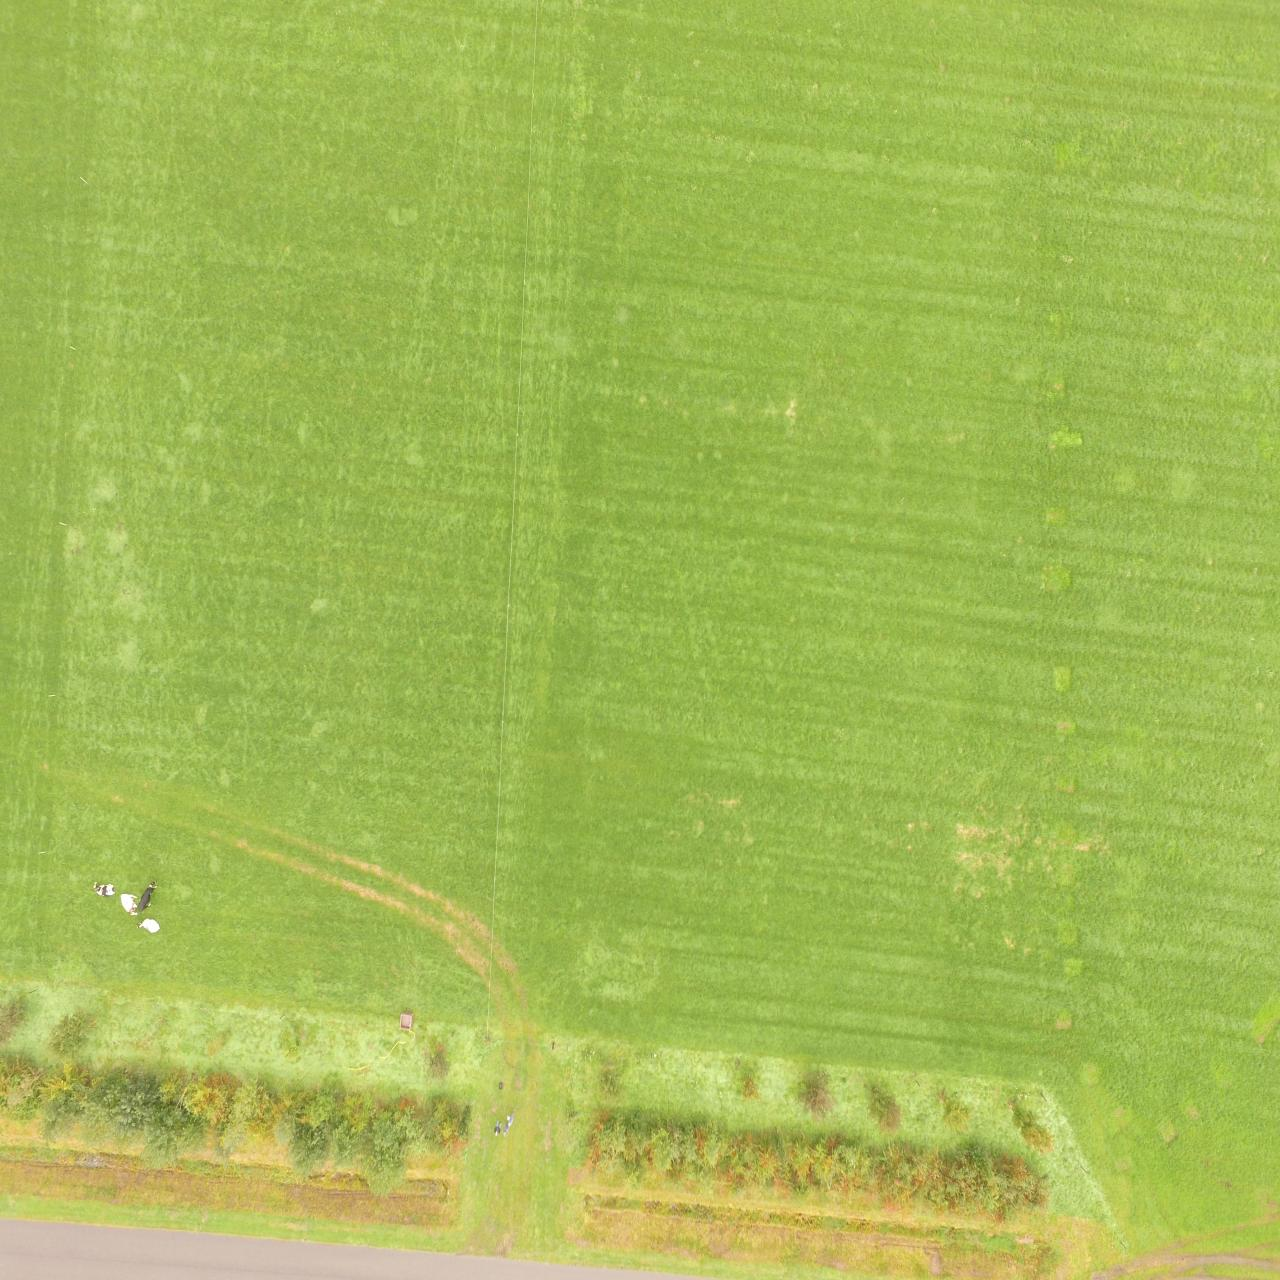cow: (138, 879, 156, 911), (120, 893, 138, 916), (92, 881, 115, 897), (138, 917, 160, 933)
